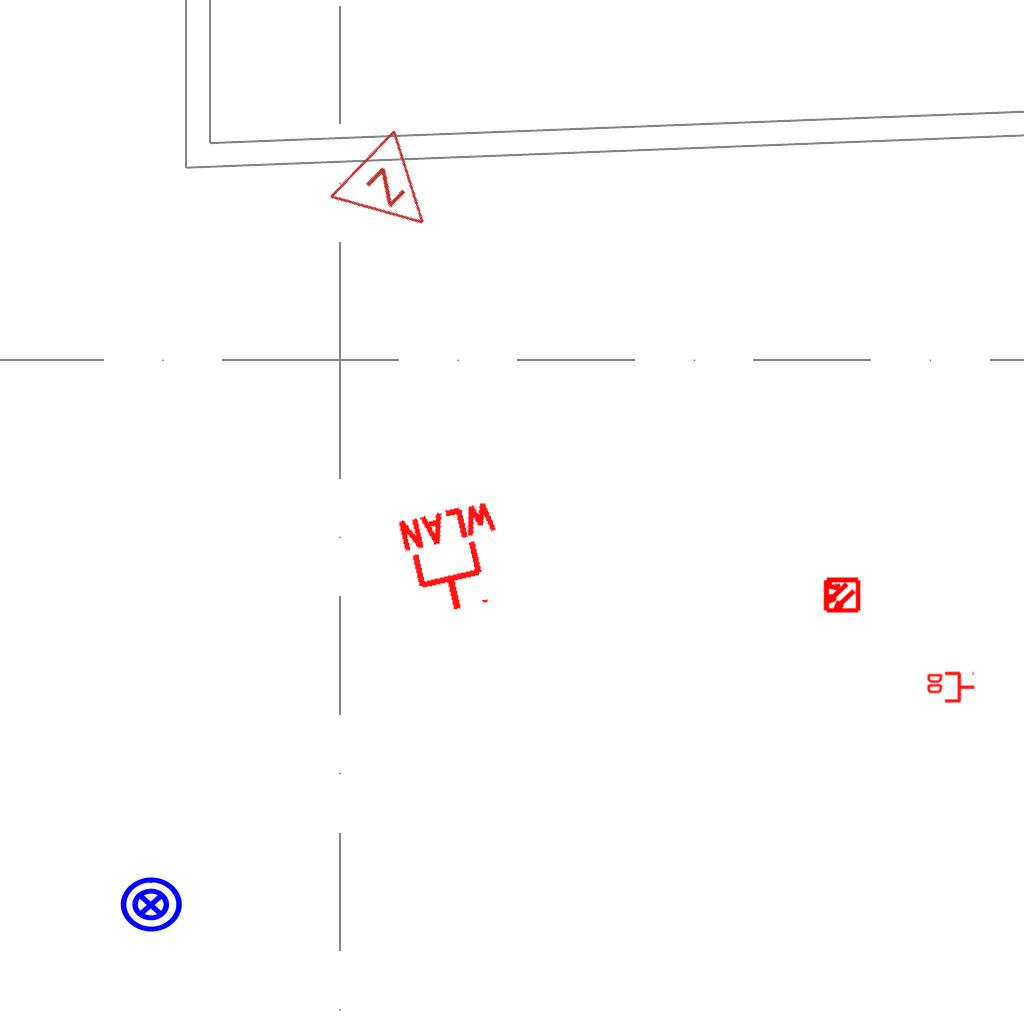Datenanschluss_zweifach: (925, 671, 976, 705)
OT_Multisensormelder_(Kombination_RMO_WMD): (813, 567, 869, 623)
Taster_beleuchtet: (118, 872, 184, 938)
WLAN: (393, 497, 518, 623)
Zimmersignalleuchte: (322, 122, 464, 262)
